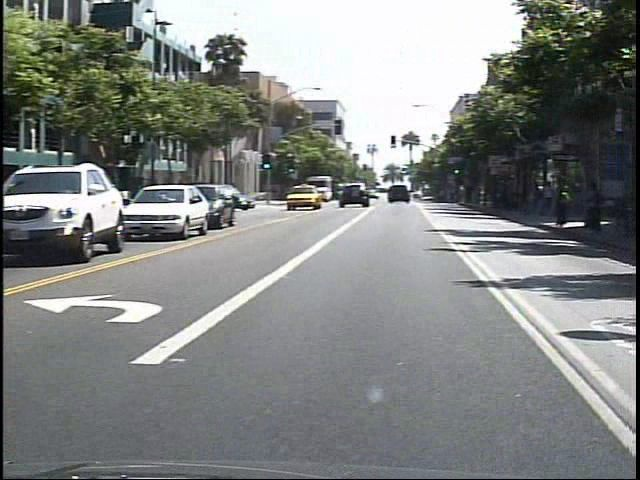person: (560, 166, 583, 231), (550, 179, 566, 218)
